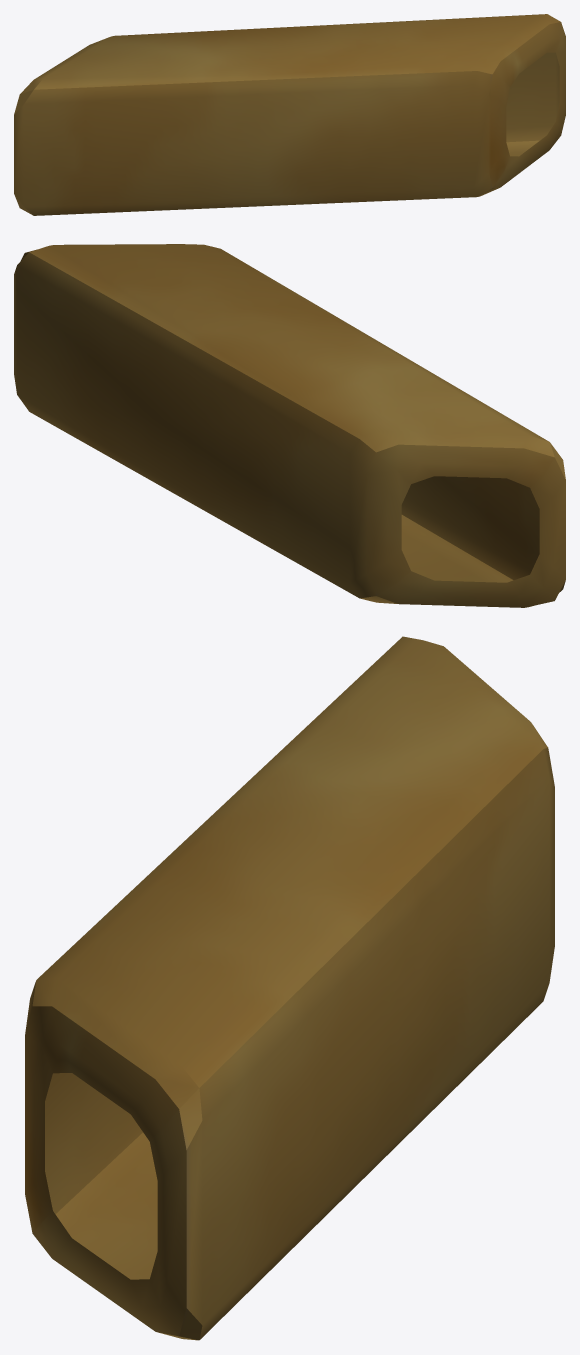
File: pasta_cooked.fbx
3 renders of one model, top to bottom at view 1: azimuth 30°, elevation 25°; view 2: azimuth 150°, elevation 25°; view 3: azimuth 270°, elevation 25°, orthographic. The views are drawn at different scales.
Visible parts, largest first — view 1: Cube.019; view 2: Cube.019; view 3: Cube.019.
Part boxes in pixels (bbox=[...]): Cube.019: bbox=[14, 14, 565, 215]; Cube.019: bbox=[14, 244, 565, 607]; Cube.019: bbox=[25, 636, 554, 1340].
Bounding box in the file's own units: 15.78 × 4.15 × 7.33.
